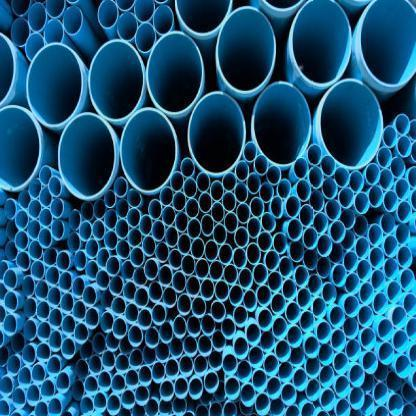pipe: (319, 79, 382, 169), (289, 1, 352, 87), (252, 80, 311, 168), (216, 6, 275, 94), (58, 113, 116, 200), (357, 1, 415, 88), (188, 92, 246, 177), (121, 108, 178, 194), (26, 42, 82, 128), (146, 31, 203, 114), (88, 39, 144, 122), (1, 106, 42, 192), (174, 1, 232, 37), (117, 11, 138, 41), (135, 22, 156, 52), (97, 1, 119, 29), (153, 6, 174, 35), (62, 6, 82, 35), (25, 32, 44, 62), (29, 2, 47, 32), (12, 18, 30, 46), (134, 1, 155, 23), (44, 20, 63, 44), (395, 355, 411, 379), (364, 163, 381, 185), (393, 178, 410, 200), (303, 336, 320, 358), (387, 393, 404, 415), (378, 168, 394, 191), (362, 351, 378, 374), (349, 364, 365, 387), (296, 180, 312, 202), (330, 221, 346, 243), (356, 260, 372, 282), (228, 284, 244, 306), (270, 293, 286, 315), (210, 300, 226, 322), (127, 325, 143, 347), (275, 340, 291, 362), (222, 353, 238, 375), (252, 370, 268, 392), (255, 394, 271, 416), (368, 185, 383, 208), (397, 200, 412, 223), (288, 218, 303, 241), (397, 245, 412, 268), (392, 306, 407, 329), (393, 330, 408, 353), (379, 342, 394, 365), (249, 346, 264, 369), (237, 360, 252, 383), (335, 375, 350, 398), (174, 376, 189, 399), (47, 1, 65, 20), (390, 157, 406, 178), (325, 199, 341, 220), (340, 209, 356, 230), (257, 231, 273, 252), (263, 250, 279, 271), (256, 285, 272, 306), (358, 306, 374, 327), (287, 326, 303, 347), (318, 344, 334, 365), (382, 125, 397, 147), (377, 146, 392, 168), (322, 177, 337, 199), (383, 190, 398, 212), (354, 192, 369, 214), (236, 202, 251, 224), (313, 212, 328, 234), (395, 223, 410, 245), (368, 224, 383, 246), (303, 228, 318, 250), (246, 243, 261, 265), (369, 246, 384, 268), (316, 257, 331, 279), (3, 268, 18, 290), (400, 268, 415, 290), (282, 278, 297, 300), (373, 292, 388, 314), (344, 295, 359, 317), (233, 306, 248, 328), (316, 322, 331, 344), (246, 324, 261, 346), (361, 328, 376, 350), (331, 329, 346, 351), (234, 337, 249, 359), (6, 354, 21, 376), (264, 354, 279, 376), (305, 356, 320, 378), (319, 365, 334, 387), (225, 378, 240, 400), (306, 379, 321, 401), (281, 384, 296, 406), (320, 389, 335, 411), (360, 394, 375, 416), (309, 166, 323, 189), (286, 195, 300, 218), (300, 204, 314, 227), (332, 264, 346, 287), (201, 314, 215, 337), (26, 384, 40, 407), (350, 387, 364, 410), (266, 165, 282, 185), (334, 167, 350, 187), (338, 188, 354, 208), (343, 252, 359, 272), (342, 318, 358, 338), (289, 347, 305, 367), (278, 362, 294, 382), (395, 114, 410, 135), (349, 171, 364, 192), (234, 182, 249, 203), (222, 191, 237, 212), (218, 244, 233, 265), (384, 258, 399, 279), (345, 273, 360, 294), (134, 287, 149, 308), (330, 306, 345, 327), (300, 311, 315, 332), (273, 318, 288, 339), (74, 323, 89, 344), (183, 336, 198, 357), (204, 372, 219, 393), (11, 387, 26, 408), (397, 135, 411, 157), (235, 160, 249, 182), (246, 172, 260, 194), (39, 186, 53, 208), (354, 215, 368, 237), (273, 232, 287, 254), (384, 234, 398, 256), (318, 235, 332, 257), (279, 256, 293, 278), (196, 258, 210, 280), (144, 259, 158, 281), (200, 278, 214, 300), (215, 280, 229, 302), (387, 281, 401, 303), (360, 282, 374, 304), (297, 288, 311, 310), (177, 294, 191, 316), (286, 302, 300, 324), (152, 304, 166, 326), (3, 314, 17, 336), (378, 319, 392, 341), (145, 327, 159, 349), (212, 330, 226, 352), (198, 334, 212, 356), (169, 337, 183, 359), (346, 340, 360, 362), (22, 343, 36, 365), (334, 352, 348, 374), (179, 356, 193, 378), (293, 369, 307, 391), (56, 372, 70, 394), (267, 377, 281, 399), (189, 378, 203, 400), (374, 382, 388, 404), (241, 384, 255, 406), (259, 183, 274, 203), (38, 208, 53, 228), (234, 227, 249, 247), (28, 240, 43, 260), (289, 242, 304, 262), (303, 250, 318, 270), (209, 261, 224, 281), (253, 264, 268, 284), (186, 276, 201, 296), (155, 342, 170, 362), (208, 350, 223, 370), (159, 381, 174, 401), (201, 214, 214, 237), (244, 289, 257, 312), (160, 321, 173, 344), (1, 375, 14, 398), (170, 171, 184, 192), (48, 176, 62, 197), (310, 190, 324, 211), (148, 199, 162, 220), (224, 212, 238, 233), (187, 218, 201, 239), (92, 219, 106, 240), (355, 237, 369, 258), (155, 242, 169, 263), (295, 266, 309, 287), (238, 268, 252, 289), (308, 274, 322, 295), (110, 275, 124, 296), (322, 283, 336, 304), (162, 287, 176, 308), (4, 291, 18, 312), (124, 303, 138, 324), (258, 309, 272, 330), (138, 309, 152, 330), (186, 316, 200, 337), (221, 318, 235, 339), (48, 331, 62, 352), (260, 331, 274, 352), (62, 338, 76, 359), (101, 350, 115, 371), (194, 355, 208, 376), (165, 358, 179, 379), (401, 382, 415, 403), (107, 394, 121, 415), (42, 248, 58, 266), (132, 268, 148, 286), (4, 198, 17, 220), (211, 201, 224, 223), (205, 240, 218, 262), (233, 247, 246, 269), (149, 281, 162, 303), (61, 292, 74, 314), (73, 300, 86, 322), (261, 213, 276, 232), (36, 343, 51, 362), (386, 372, 401, 391), (254, 155, 268, 175), (180, 157, 194, 177), (294, 158, 308, 178), (196, 172, 210, 192), (183, 178, 197, 198), (277, 178, 291, 198), (172, 191, 186, 211), (250, 197, 264, 217), (186, 198, 200, 218), (127, 208, 141, 228), (247, 218, 261, 238), (28, 219, 42, 239), (213, 224, 227, 244), (38, 228, 52, 248), (15, 230, 29, 250), (340, 230, 354, 250), (142, 236, 156, 256), (130, 247, 144, 267), (56, 251, 70, 271), (16, 251, 30, 271), (181, 255, 195, 275), (106, 256, 120, 276), (31, 260, 45, 280), (121, 260, 135, 280), (224, 264, 238, 284), (159, 266, 173, 286), (46, 266, 60, 286), (372, 270, 386, 290), (268, 271, 282, 291), (192, 297, 206, 317), (312, 298, 326, 318), (36, 301, 50, 321), (11, 333, 25, 353), (115, 354, 129, 374), (374, 362, 388, 382), (138, 366, 152, 386), (135, 386, 149, 406), (121, 389, 135, 409), (403, 294, 415, 317), (210, 180, 223, 201), (199, 192, 212, 213), (116, 198, 129, 219), (104, 209, 117, 230), (381, 213, 394, 234), (139, 214, 152, 235), (152, 221, 165, 242), (169, 249, 182, 270), (59, 271, 72, 292), (173, 272, 186, 293), (72, 277, 85, 298), (123, 281, 136, 302), (23, 297, 36, 318), (62, 315, 75, 336), (152, 362, 165, 383), (105, 333, 120, 351), (172, 397, 187, 415), (48, 397, 63, 415), (12, 1, 30, 16), (222, 172, 236, 191), (47, 356, 61, 375), (32, 364, 46, 383), (271, 196, 283, 218), (166, 226, 178, 248), (86, 260, 98, 282), (22, 275, 34, 297), (174, 316, 186, 338), (39, 165, 52, 185), (160, 186, 173, 206), (81, 201, 94, 221), (162, 206, 175, 226), (175, 212, 188, 232), (116, 219, 129, 239), (6, 220, 19, 240), (79, 221, 92, 241), (178, 234, 191, 254), (191, 238, 204, 258), (5, 242, 18, 262), (97, 248, 110, 268), (96, 270, 109, 290), (83, 286, 96, 306), (48, 287, 61, 307), (101, 312, 114, 332), (113, 318, 126, 338), (23, 320, 36, 340), (143, 346, 156, 366), (129, 349, 142, 369), (89, 356, 102, 376), (76, 359, 89, 379), (18, 366, 31, 386), (98, 371, 111, 391), (94, 392, 107, 412), (270, 398, 285, 415), (52, 219, 64, 240), (86, 238, 98, 259), (116, 240, 130, 258), (74, 250, 86, 271), (35, 281, 49, 299), (50, 308, 62, 329), (86, 308, 98, 329), (37, 322, 51, 340), (94, 333, 106, 354), (84, 376, 98, 394), (41, 380, 55, 398), (51, 198, 64, 217), (16, 210, 29, 229), (104, 231, 117, 250), (112, 297, 125, 316), (112, 375, 125, 394), (29, 178, 41, 198), (94, 199, 106, 219), (69, 210, 81, 230), (68, 232, 80, 252), (80, 339, 92, 359), (72, 380, 84, 400), (214, 381, 226, 401), (158, 399, 173, 415), (128, 229, 142, 246), (80, 397, 94, 414), (336, 399, 350, 416), (28, 200, 41, 218), (125, 370, 138, 388), (127, 190, 141, 206), (146, 398, 159, 415), (18, 191, 30, 209), (223, 401, 238, 415), (301, 402, 316, 415), (1, 346, 10, 367), (407, 166, 415, 189), (408, 343, 416, 366), (119, 340, 132, 354), (35, 401, 48, 415), (209, 402, 223, 415), (401, 402, 415, 415), (284, 405, 301, 415), (408, 118, 415, 141), (1, 399, 11, 415), (195, 404, 209, 415), (374, 405, 389, 415)
